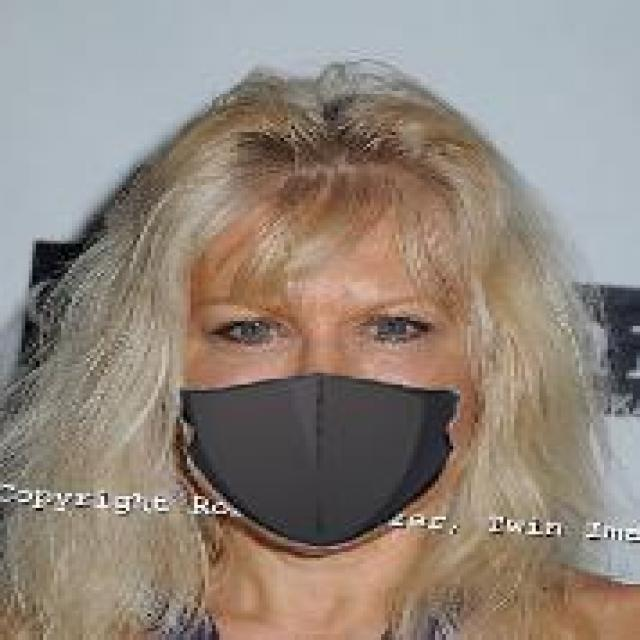mask: (122, 70, 547, 552)
